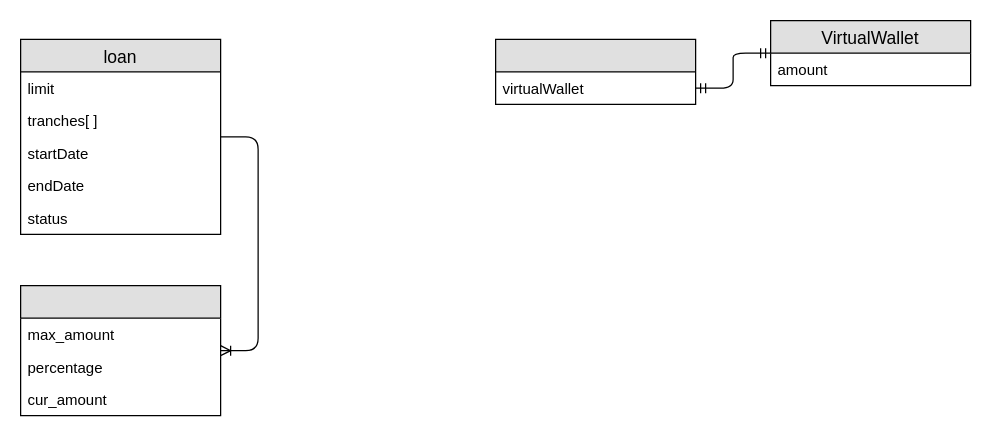
The diagram is 991 pixels wide and 436 high, and some of its shapes have lost their labels. The box of each missing label's shape, as (x1, y1, x2, y2) in pixels:
Investor: (494, 38, 696, 104)
Tranche: (19, 284, 221, 416)
